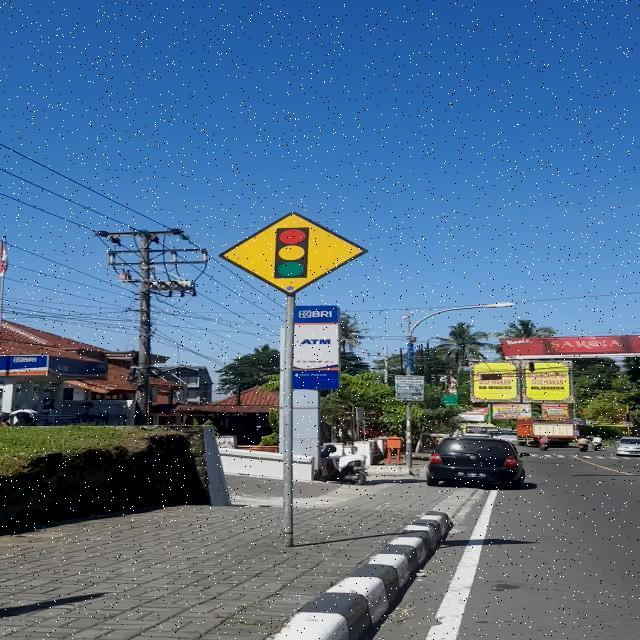Lampu Lalu Lintas: (219, 212, 369, 296)
